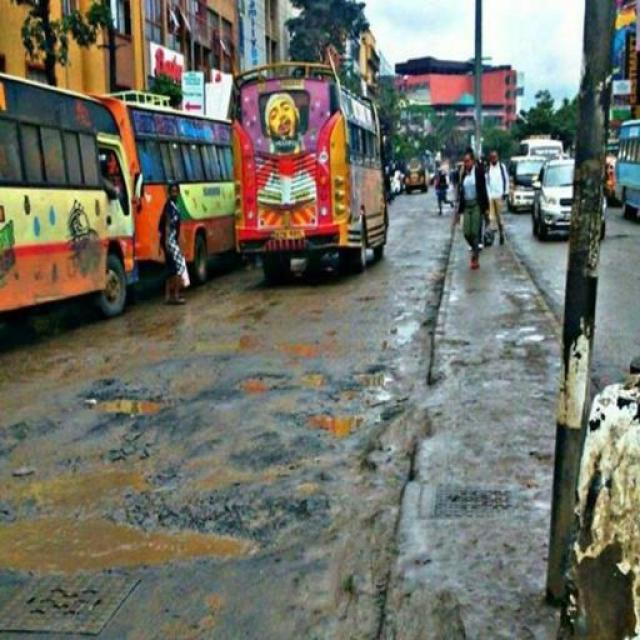puddle: (2, 478, 253, 569), (30, 327, 233, 373), (314, 398, 369, 450), (104, 390, 165, 429)
